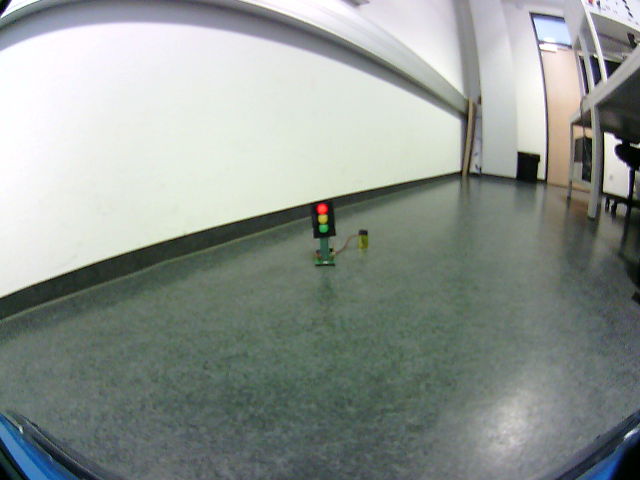red trafficlight: (313, 204, 333, 236)
